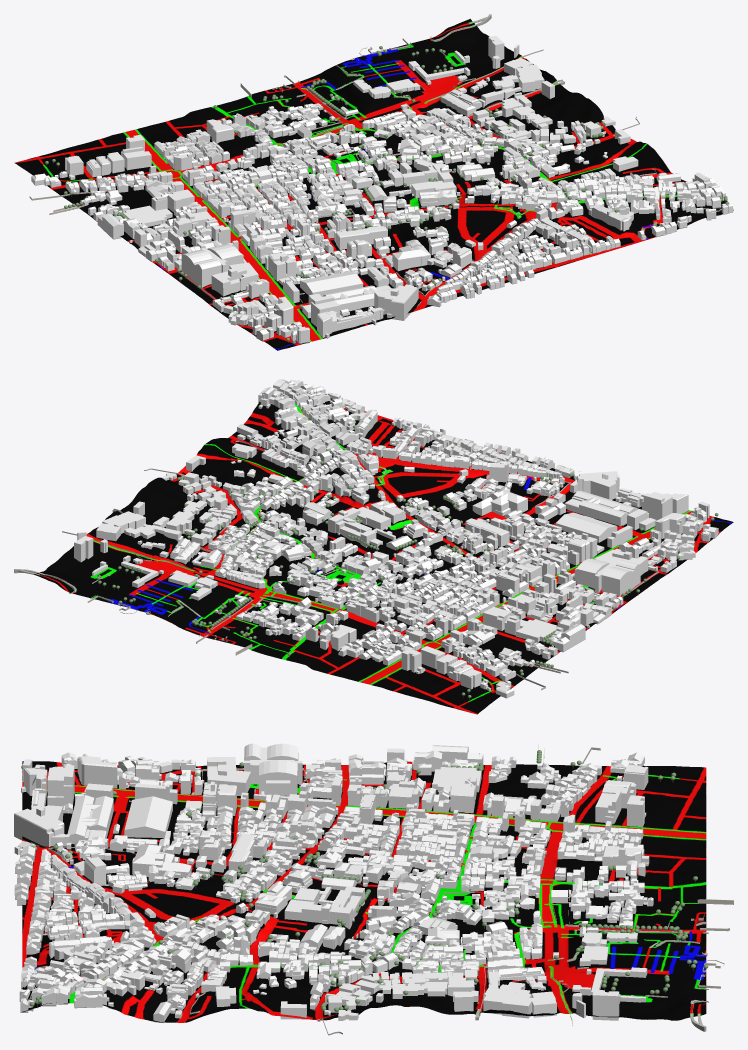
The model's file is world.glb.
The picture shows the model from 3 angles, top to bottom: view 1: azimuth 30°, elevation 25°; view 2: azimuth 150°, elevation 25°; view 3: azimuth 270°, elevation 25°; orthographic projection. The views are drawn at different scales.
Parts seen in each view (by area): view 1: Terrain_GSI_DEM5A, B_ed09b4e0, B_53b8c247, B_e09f68c3, B_90beb08b, B_a4cdd89f, B_380733fe, B_f03b138f, B_3f45d913, B_0f702396, B_79e2b051, B_964efb15 (+5 smaller); view 2: Terrain_GSI_DEM5A, B_ed09b4e0, B_f03b138f, B_e09f68c3, B_53b8c247, B_a4cdd89f, B_0f702396, B_3f45d913, B_79e2b051, B_cbf226b5, B_380733fe, B_8c7e15e9 (+2 smaller); view 3: Terrain_GSI_DEM5A, B_ed09b4e0, B_e09f68c3, B_53b8c247, B_f03b138f, B_3f45d913, B_a4cdd89f, B_0f702396, B_90beb08b, B_cbf226b5, B_f4f16543, B_79e2b051 (+24 smaller).
Part boxes in pixels (<box>): Terrain_GSI_DEM5A: <box>14,18,733,350</box>; B_ed09b4e0: <box>181,243,243,287</box>; B_53b8c247: <box>374,284,418,320</box>; B_e09f68c3: <box>401,163,456,198</box>; B_90beb08b: <box>211,262,258,296</box>; B_a4cdd89f: <box>300,271,363,296</box>; B_380733fe: <box>317,307,383,337</box>; B_f03b138f: <box>323,285,394,311</box>; B_3f45d913: <box>504,57,544,92</box>; B_0f702396: <box>392,239,430,271</box>; B_79e2b051: <box>334,226,387,250</box>; B_964efb15: <box>440,89,485,115</box>; Terrain_GSI_DEM5A: <box>33,394,733,714</box>; B_ed09b4e0: <box>574,558,640,596</box>; B_f03b138f: <box>564,491,637,526</box>; B_e09f68c3: <box>328,507,390,543</box>; B_53b8c247: <box>570,471,619,499</box>; B_a4cdd89f: <box>555,512,617,542</box>; B_0f702396: <box>472,489,527,516</box>; B_3f45d913: <box>96,511,145,541</box>; B_79e2b051: <box>465,518,509,549</box>; B_cbf226b5: <box>642,492,672,520</box>; B_380733fe: <box>618,488,688,513</box>; B_8c7e15e9: <box>516,619,557,642</box>; Terrain_GSI_DEM5A: <box>22,761,706,1022</box>; B_ed09b4e0: <box>244,743,302,796</box>; B_e09f68c3: <box>284,887,361,929</box>; B_53b8c247: <box>14,805,69,846</box>; B_f03b138f: <box>67,795,113,844</box>; B_3f45d913: <box>483,987,556,1018</box>; B_a4cdd89f: <box>124,796,172,838</box>; B_0f702396: <box>132,844,191,877</box>; B_90beb08b: <box>207,757,250,796</box>; B_cbf226b5: <box>47,765,74,806</box>; B_f4f16543: <box>79,756,117,788</box>; B_79e2b051: <box>228,833,266,872</box>.
Size of what is drawn, in the model's own units: 673 by 63.73 by 632.
8 materials, 1 textured.
